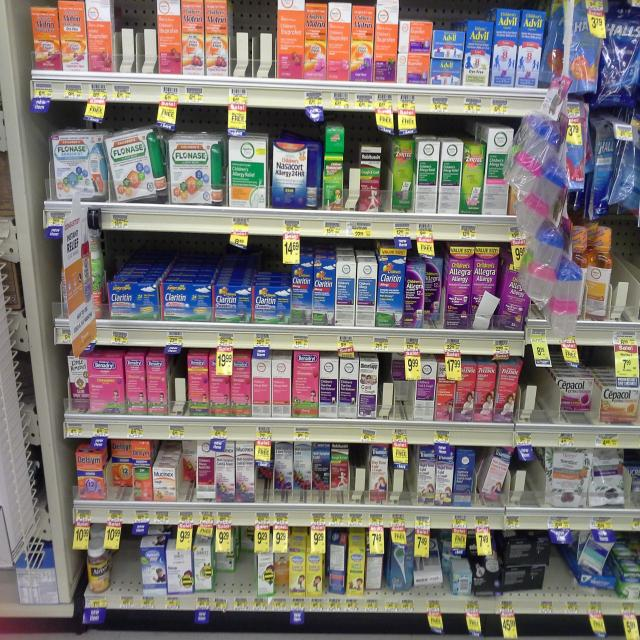empty: (107, 2, 166, 81), (225, 1, 288, 72), (508, 440, 552, 506), (602, 258, 640, 328), (519, 359, 554, 427), (112, 531, 145, 603), (160, 355, 193, 413), (349, 441, 377, 508), (549, 532, 576, 599), (373, 362, 405, 417), (392, 453, 416, 508)
